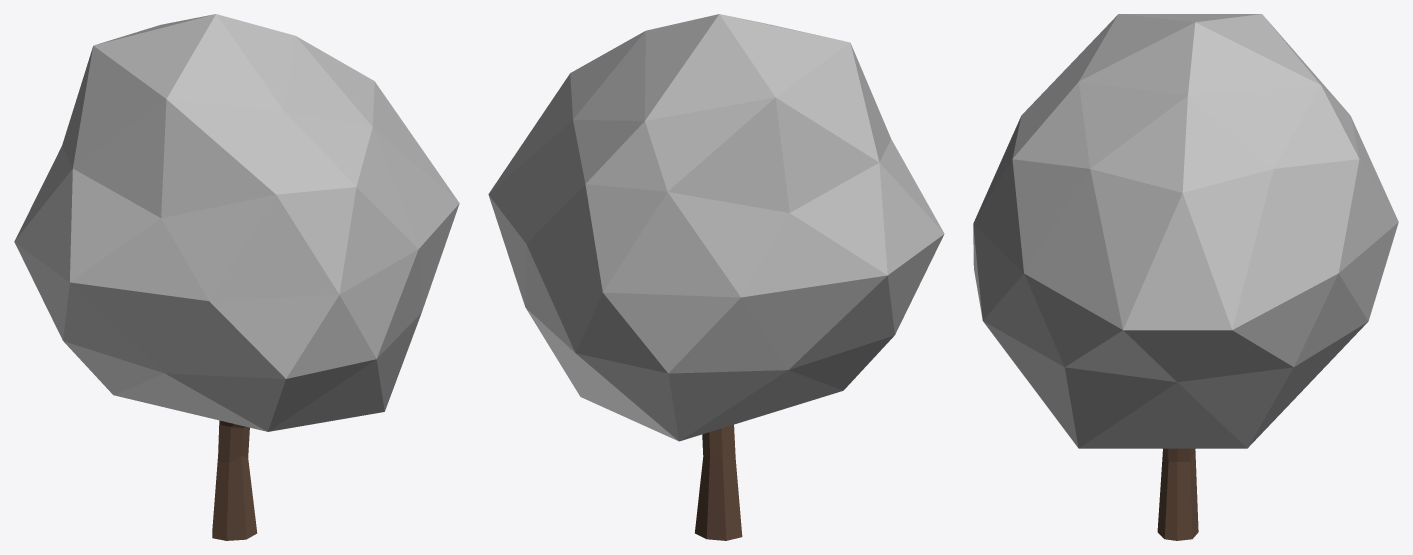
The model's file is Tree_58_White.fbx.
3 renders of one model, left to right at view 1: azimuth 30°, elevation 25°; view 2: azimuth 150°, elevation 25°; view 3: azimuth 270°, elevation 25°, orthographic. The views are drawn at different scales.
Visible parts, largest first — view 1: Tree_58_White_Part_1, Tree_58_White_Part_2; view 2: Tree_58_White_Part_1, Tree_58_White_Part_2; view 3: Tree_58_White_Part_1, Tree_58_White_Part_2.
Part boxes in pixels (x1,y1,x2,y2): Tree_58_White_Part_1: (14, 14, 459, 431); Tree_58_White_Part_2: (212, 420, 257, 540); Tree_58_White_Part_1: (488, 14, 944, 441); Tree_58_White_Part_2: (695, 424, 742, 540); Tree_58_White_Part_1: (973, 14, 1398, 448); Tree_58_White_Part_2: (1157, 448, 1198, 540).
Size of the model in its own units: 627 by 791 by 604.
